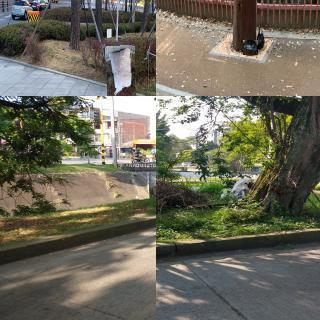Garbage: (106, 45, 135, 96), (232, 176, 254, 198), (243, 40, 258, 55), (256, 29, 265, 48)
